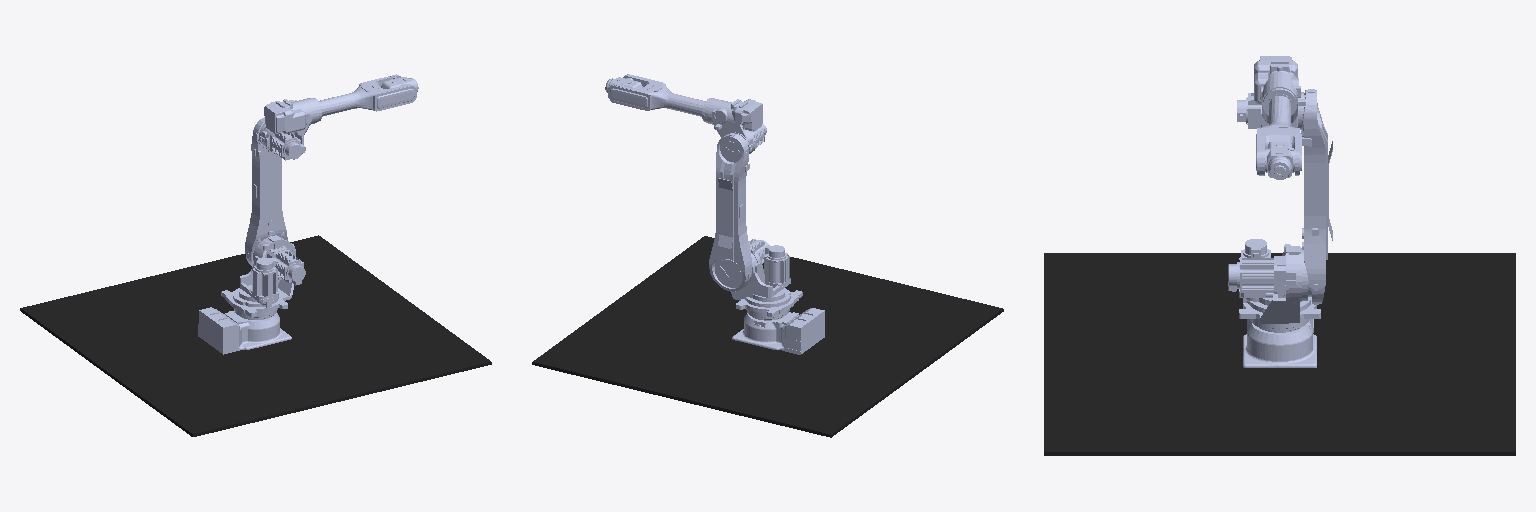
The robot description file, URDF, robot "robot_arm":
<?xml version="1.0" encoding="utf-8"?>
<!-- =================================================================================== -->
<!-- |    This document was autogenerated by xacro from robot.urdf.xacro               | -->
<!-- |    EDITING THIS FILE BY HAND IS NOT RECOMMENDED                                 | -->
<!-- =================================================================================== -->
<robot name="robot_arm">
  <link name="base_link">
    <inertial>
      <origin rpy="0 0 0" xyz="-0.094837 0.00034593 0.080005"/>
      <mass value="17.103"/>
      <inertia ixx="0.13544" ixy="0.00059306" ixz="0.015664" iyy="0.31603" iyz="3.3743E-05" izz="0.37543"/>
    </inertial>
    <visual>
      <origin rpy="0 0 0" xyz="0 0 0"/>
      <geometry>
        <mesh filename="package://hh020_ver1/meshes/base_link.STL"/>
      </geometry>
      <material name="">
        <color rgba="0.79216 0.81961 0.93333 1"/>
      </material>
    </visual>
    <collision>
      <origin rpy="0 0 0" xyz="0 0 0"/>
      <geometry>
        <mesh filename="package://hh020_ver1/meshes/base_link.STL"/>
      </geometry>
    </collision>
  </link>
  <link name="lower_frame">
    <inertial>
      <origin rpy="0 0 0" xyz="0.072067 -0.0086463 0.18762"/>
      <mass value="19.865"/>
      <inertia ixx="0.17864" ixy="-0.018812" ixz="-0.061412" iyy="0.23303" iyz="-0.021951" izz="0.18982"/>
    </inertial>
    <visual>
      <origin rpy="0 0 0" xyz="0 0 0"/>
      <geometry>
        <mesh filename="package://hh020_ver1/meshes/lower_frame.STL"/>
      </geometry>
      <material name="">
        <color rgba="0.79216 0.81961 0.93333 1"/>
      </material>
    </visual>
    <collision>
      <origin rpy="0 0 0" xyz="0 0 0"/>
      <geometry>
        <mesh filename="package://hh020_ver1/meshes/lower_frame.STL"/>
      </geometry>
    </collision>
  </link>
  <joint name="lower" type="revolute">
    <origin rpy="0 0 0" xyz="0 0 0.162"/>
    <parent link="base_link"/>
    <child link="lower_frame"/>
    <axis xyz="0 0 1"/>
    <limit effort="150" lower="-3.229" upper="3.229" velocity="3.316"/>
  </joint>
  <link name="upper_frame">
    <inertial>
      <origin rpy="0 0 0" xyz="-0.00010751 0.0068369 0.36285"/>
      <mass value="11.176"/>
      <inertia ixx="0.62235" ixy="5.5619E-06" ixz="0.00028138" iyy="0.64621" iyz="0.010765" izz="0.038783"/>
    </inertial>
    <visual>
      <origin rpy="0 0 0" xyz="0 0 0"/>
      <geometry>
        <mesh filename="package://hh020_ver1/meshes/upper_frame.STL"/>
      </geometry>
      <material name="">
        <color rgba="0.79216 0.81961 0.93333 1"/>
      </material>
    </visual>
    <collision>
      <origin rpy="0 0 0" xyz="0 0 0"/>
      <geometry>
        <mesh filename="package://hh020_ver1/meshes/upper_frame.STL"/>
      </geometry>
    </collision>
  </link>
  <joint name="upper" type="revolute">
    <origin rpy="0 0 0" xyz="0.16 0.1419 0.2846"/>
    <parent link="lower_frame"/>
    <child link="upper_frame"/>
    <axis xyz="0 1 0"/>
    <limit effort="150" lower="-1.222" upper="3.403" velocity="3.142"/>
  </joint>
  <link name="arm_frame">
    <inertial>
      <origin rpy="0 0 0" xyz="0.042152 -0.13965 0.080961"/>
      <mass value="12.299"/>
      <inertia ixx="0.077578" ixy="0.0039974" ixz="-0.014934" iyy="0.095659" iyz="0.010098" izz="0.073131"/>
    </inertial>
    <visual>
      <origin rpy="0 0 0" xyz="0 0 0"/>
      <geometry>
        <mesh filename="package://hh020_ver1/meshes/arm_frame.STL"/>
      </geometry>
      <material name="">
        <color rgba="0.79216 0.81961 0.93333 1"/>
      </material>
    </visual>
    <collision>
      <origin rpy="0 0 0" xyz="0 0 0"/>
      <geometry>
        <mesh filename="package://hh020_ver1/meshes/arm_frame.STL"/>
      </geometry>
    </collision>
  </link>
  <joint name="arm" type="revolute">
    <origin rpy="0 0 0" xyz="0 -0.0104 0.77"/>
    <parent link="upper_frame"/>
    <child link="arm_frame"/>
    <axis xyz="0 1 0"/>
    <limit effort="150" lower="-1.396" upper="3.141" velocity="3.316"/>
  </joint>
  <link name="wrist_frame">
    <inertial>
      <origin rpy="0 0 0" xyz="0.33419 -0.0048996 9.1409E-05"/>
      <mass value="6.5587"/>
      <inertia ixx="0.017572" ixy="0.0048652" ixz="-5.6686E-05" iyy="0.18161" iyz="-9.4766E-06" izz="0.18844"/>
    </inertial>
    <visual>
      <origin rpy="0 0 0" xyz="0 0 0"/>
      <geometry>
        <mesh filename="package://hh020_ver1/meshes/wrist_frame.STL"/>
      </geometry>
      <material name="">
        <color rgba="0.79216 0.81961 0.93333 1"/>
      </material>
    </visual>
    <collision>
      <origin rpy="0 0 0" xyz="0 0 0"/>
      <geometry>
        <mesh filename="package://hh020_ver1/meshes/wrist_frame.STL"/>
      </geometry>
    </collision>
  </link>
  <joint name="wrist" type="revolute">
    <origin rpy="0 0 0" xyz="0.2135 -0.1315 0.14"/>
    <parent link="arm_frame"/>
    <child link="wrist_frame"/>
    <axis xyz="1 0 0"/>
    <limit effort="39.2" lower="-3.403" upper="3.403" velocity="6.632"/>
  </joint>
  <link name="end_connector">
    <inertial>
      <origin rpy="0 0 0" xyz="0.00088677 -0.061435 0.00015943"/>
      <mass value="2.2391"/>
      <inertia ixx="0.0040127" ixy="-2.7735E-06" ixz="-6.8315E-06" iyy="0.0049003" iyz="-7.8348E-06" izz="0.0052929"/>
    </inertial>
    <visual>
      <origin rpy="0 0 0" xyz="0 0 0"/>
      <geometry>
        <mesh filename="package://hh020_ver1/meshes/end_connector.STL"/>
      </geometry>
      <material name="">
        <color rgba="0.79216 0.81961 0.93333 1"/>
      </material>
    </visual>
    <collision>
      <origin rpy="0 0 0" xyz="0 0 0"/>
      <geometry>
        <mesh filename="package://hh020_ver1/meshes/end_connector.STL"/>
      </geometry>
    </collision>
  </link>
  <joint name="end_connector" type="revolute">
    <origin rpy="0 0 0" xyz="0.5865 0.0615 0"/>
    <parent link="wrist_frame"/>
    <child link="end_connector"/>
    <axis xyz="0 -1 0"/>
    <limit effort="39.2" lower="-2.356" upper="2.356" velocity="6.632"/>
  </joint>
  <link name="end_frame">
    <inertial>
      <origin rpy="0 0 0" xyz="0.003229 -2.5625E-14 -7.2253E-06"/>
      <mass value="0.009731"/>
      <inertia ixx="3.6926E-06" ixy="8.6418E-19" ixz="2.0953E-10" iyy="1.9671E-06" iyz="3.8014E-18" izz="1.8102E-06"/>
    </inertial>
    <visual>
      <origin rpy="0 0 0" xyz="0 0 0"/>
      <geometry>
        <mesh filename="package://hh020_ver1/meshes/end_frame.STL"/>
      </geometry>
      <material name="">
        <color rgba="0.79216 0.81961 0.93333 1"/>
      </material>
    </visual>
    <collision>
      <origin rpy="0 0 0" xyz="0 0 0"/>
      <geometry>
        <mesh filename="package://hh020_ver1/meshes/end_frame.STL"/>
      </geometry>
    </collision>
  </link>
  <joint name="end" type="revolute">
    <origin rpy="0 0 0" xyz="0.105 -0.0615 0"/>
    <parent link="end_connector"/>
    <child link="end_frame"/>
    <axis xyz="1 0 0"/>
    <limit effort="19.6" lower="-6.283" upper="6.283" velocity="10.472"/>
  </joint>
  <link name="world"/>
  <link name="table">
    <visual>
      <origin rpy="0 0 0" xyz="0.0  0 0.01"/>
      <geometry>
        <box size="2.0 2.0 0.02"/>
      </geometry>
      <material name="table">
        <color rgba="0.192 0.192 0.192 1"/>
        <!-- <color rgba="0.941 0.875 0.8 1.0"/> -->
        <!-- <color rgba="0.133 0.545 0.133 1.0"/> -->
      </material>
    </visual>
    <collision>
      <origin rpy="0 0 0" xyz="0.0  0 0.01"/>
      <geometry>
        <box size="2.0 2.0 0.02"/>
      </geometry>
    </collision>
  </link>
  <joint name="world_table" type="fixed">
    <parent link="world"/>
    <child link="table"/>
    <origin rpy="0.0 0.0 0.0" xyz="0.0 0.0 0.0"/>
  </joint>
  <joint name="table_robot" type="fixed">
    <parent link="table"/>
    <child link="base_link"/>
    <origin rpy="0.0 0.0 0.0" xyz="0.0 0.0 0.01"/>
  </joint>
</robot>

--- Facts derived from the render (not from the file) ---
3 views of the same robot in one strip: view 1: azimuth 30°, elevation 25°; view 2: azimuth 150°, elevation 25°; view 3: azimuth 270°, elevation 25° (orthographic).
Robot: robot_arm — 9 links, 8 joints (6 revolute, 2 fixed); root link world; default pose: every joint at zero.
Visible links, largest first — view 1: table, lower_frame, upper_frame, base_link, arm_frame, wrist_frame; view 2: table, upper_frame, lower_frame, base_link, arm_frame, wrist_frame; view 3: table, lower_frame, upper_frame, base_link, arm_frame, wrist_frame, end_connector.
Link boxes in pixels (x1,y1,x2,y2): table: (20,235,491,436); lower_frame: (221,235,305,318); upper_frame: (245,117,287,266); base_link: (198,307,291,354); arm_frame: (259,98,319,160); wrist_frame: (313,74,416,121); table: (532,236,1003,437); upper_frame: (709,133,751,291); lower_frame: (730,239,802,319); base_link: (732,308,824,354); arm_frame: (705,98,766,153); wrist_frame: (608,74,711,121); table: (1044,253,1515,455); lower_frame: (1228,239,1320,330); upper_frame: (1301,89,1332,304); base_link: (1243,319,1316,367); arm_frame: (1237,56,1305,129); wrist_frame: (1256,88,1301,175); end_connector: (1266,142,1293,179).
Bounding box of the posed robot: 2.07 × 2 × 1.46 m (x, y, z).
7 mesh visuals loaded from 7 distinct referenced files (7 binary STL).